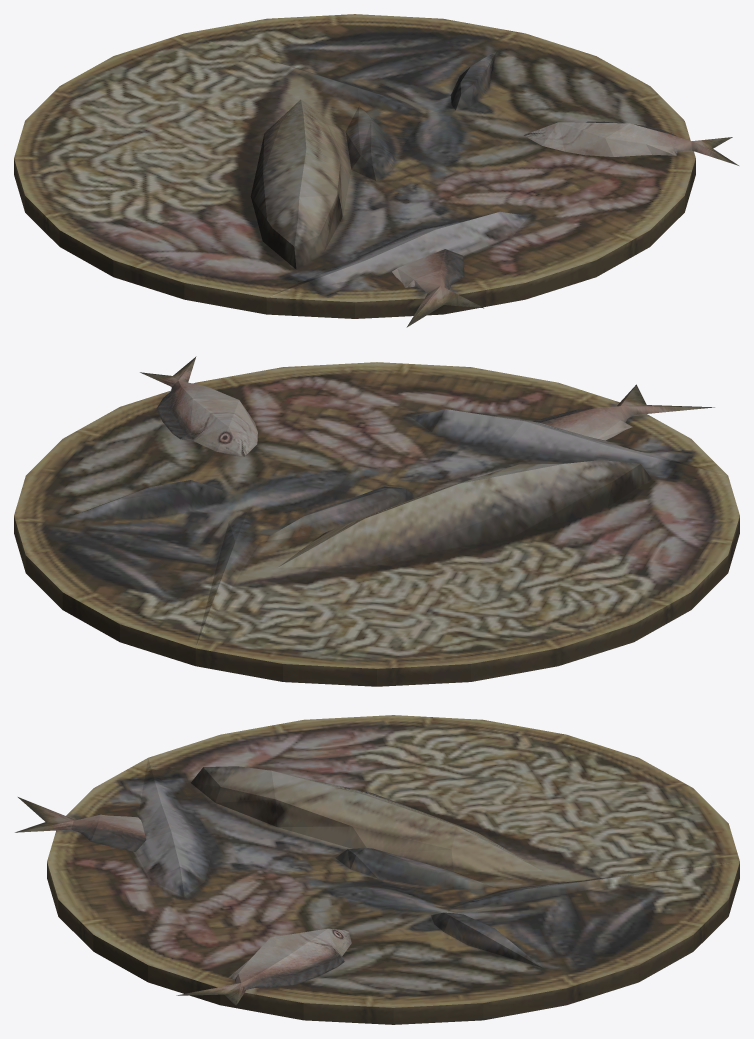
Rendered from bg_lut_mawport_storeprop09_sm_artree.FBX.
The picture shows the model from 3 angles, top to bottom: view 1: azimuth 30°, elevation 25°; view 2: azimuth 150°, elevation 25°; view 3: azimuth 270°, elevation 25°; orthographic projection. The views are drawn at different scales.
Visible parts, largest first — view 1: bg_lut_mawport_storeprop09_sm_artree; view 2: bg_lut_mawport_storeprop09_sm_artree; view 3: bg_lut_mawport_storeprop09_sm_artree.
Boxes of the visible parts, bbox=[...] form: bg_lut_mawport_storeprop09_sm_artree: bbox=[14, 14, 738, 327]; bg_lut_mawport_storeprop09_sm_artree: bbox=[14, 356, 739, 686]; bg_lut_mawport_storeprop09_sm_artree: bbox=[15, 715, 739, 1024].
Bounding box in the file's own units: 67.67 × 8.01 × 70.23.
